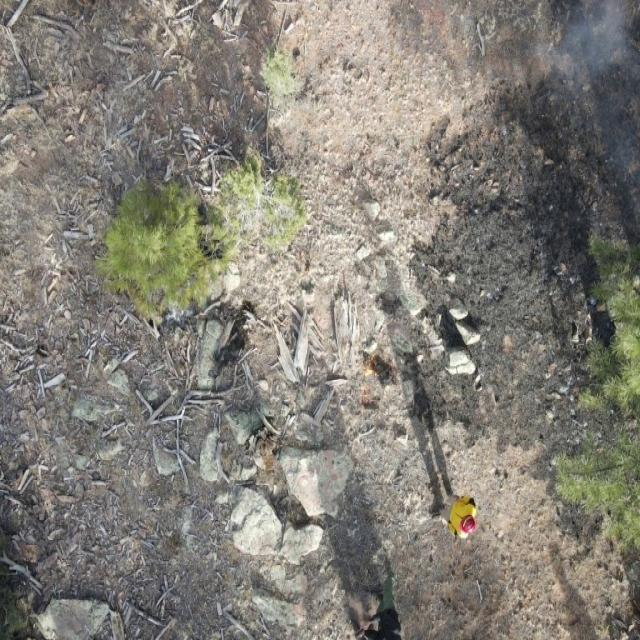fire: (359, 349, 396, 383), (360, 392, 374, 407)
smoke: (504, 0, 640, 109)
